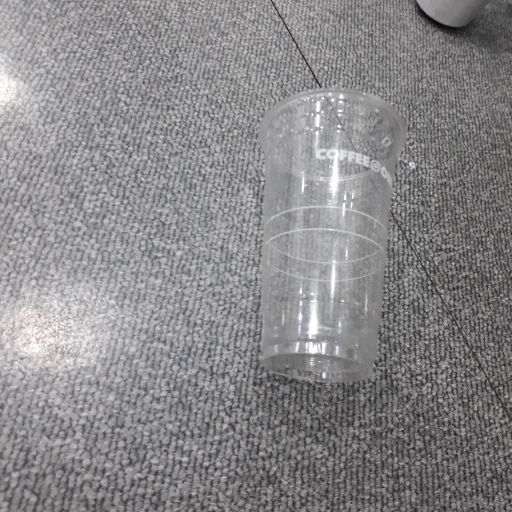Plastic_2: (256, 86, 407, 389)
